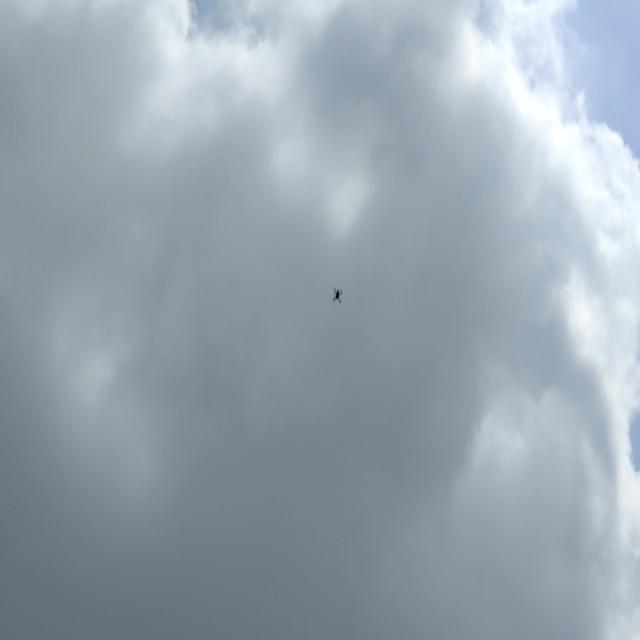drone: (331, 284, 345, 306)
